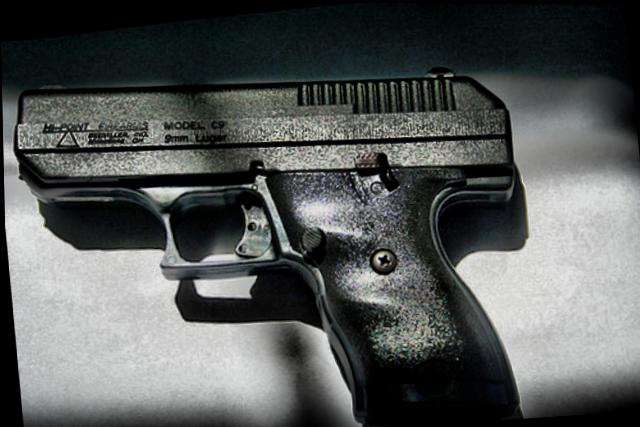pistol: (5, 50, 540, 427)
